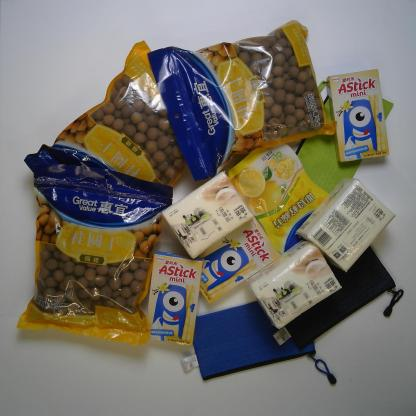Dessert: (188, 214, 284, 306), (326, 67, 392, 164), (143, 250, 206, 348)
Dried Food: (146, 18, 338, 183), (14, 159, 176, 348), (20, 37, 189, 186)
Dried Fruit: (227, 140, 331, 257)
Stationery: (272, 240, 406, 351), (180, 298, 340, 388), (294, 78, 396, 198)
Tissue: (294, 176, 398, 274), (245, 237, 344, 330), (160, 168, 256, 262)
